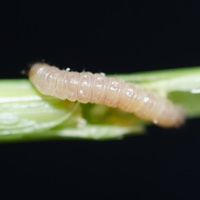insect: (29, 63, 185, 126), (29, 63, 184, 126)
